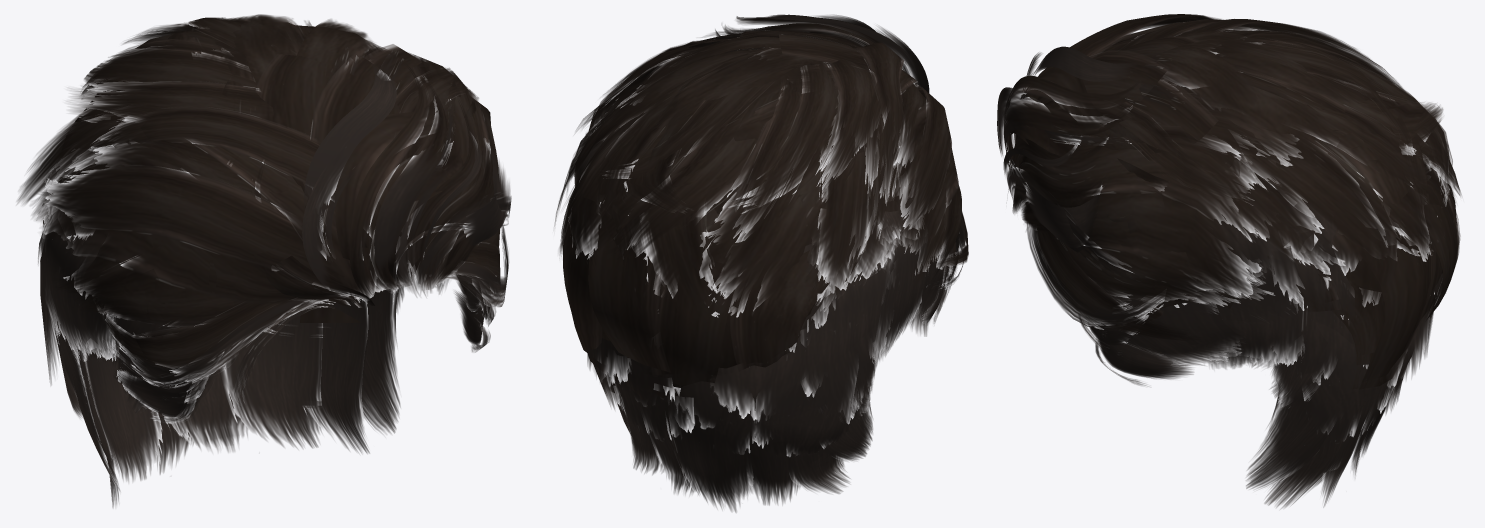
File: MediumLengthTaper.glb
The picture shows the model from 3 angles, left to right: view 1: azimuth 30°, elevation 25°; view 2: azimuth 150°, elevation 25°; view 3: azimuth 270°, elevation 25°; orthographic projection. The views are drawn at different scales.
Visible parts, largest first — view 1: MEDIUM-LENGTH TAPER; view 2: MEDIUM-LENGTH TAPER; view 3: MEDIUM-LENGTH TAPER.
Boxes of the visible parts, x1=… form: MEDIUM-LENGTH TAPER: x1=17, y1=14, x2=511, y2=507; MEDIUM-LENGTH TAPER: x1=554, y1=14, x2=968, y2=512; MEDIUM-LENGTH TAPER: x1=997, y1=14, x2=1461, y2=508.
Size of the model in its own units: 0.2282 by 0.2529 by 0.2492.
Materials: 1 (1 with a texture image).
